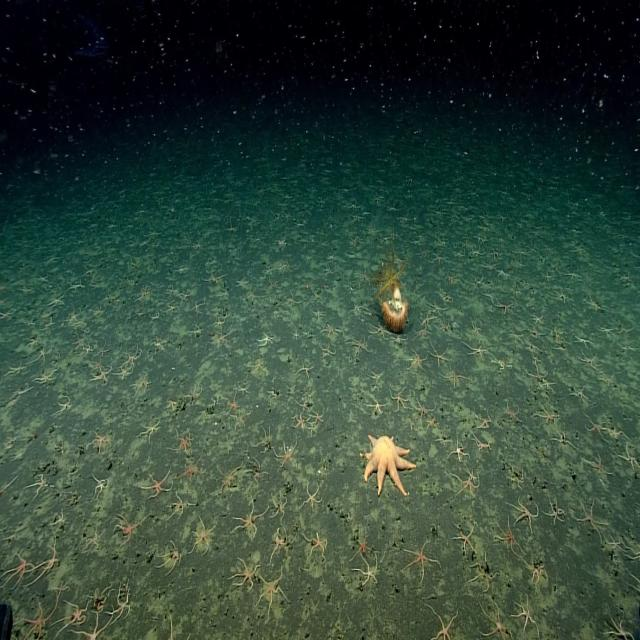brittle-stars: (12, 590, 59, 640), (402, 536, 442, 585), (419, 599, 466, 640), (476, 598, 515, 640), (568, 492, 606, 535), (598, 602, 640, 640), (67, 607, 115, 640), (467, 550, 498, 594), (188, 512, 218, 556), (258, 569, 286, 615), (56, 599, 92, 633), (236, 500, 266, 540), (232, 547, 258, 593), (512, 594, 540, 636), (508, 497, 540, 533), (110, 510, 142, 545), (145, 464, 175, 501), (496, 523, 523, 561), (178, 454, 208, 486), (4, 554, 33, 586), (37, 539, 59, 581), (450, 472, 480, 502), (159, 540, 184, 575), (214, 464, 239, 498), (354, 557, 382, 587), (110, 587, 133, 623), (453, 525, 480, 555), (89, 427, 117, 455), (268, 522, 288, 560), (546, 493, 565, 532), (618, 439, 640, 472), (306, 534, 328, 565), (26, 469, 51, 496), (301, 482, 322, 514), (138, 416, 162, 444), (169, 492, 192, 521), (277, 444, 300, 472), (526, 558, 546, 590), (246, 460, 270, 486), (414, 395, 433, 427), (390, 385, 412, 411), (442, 368, 467, 390), (171, 434, 197, 455), (33, 366, 60, 386), (81, 528, 103, 552), (583, 455, 608, 476), (260, 428, 278, 457), (352, 533, 372, 559), (535, 408, 561, 428), (624, 535, 640, 567), (112, 361, 136, 382), (368, 391, 388, 416), (270, 494, 288, 521), (556, 427, 577, 450), (499, 402, 522, 423), (89, 365, 112, 386), (89, 588, 107, 614), (350, 335, 372, 356), (132, 374, 152, 396), (231, 409, 249, 433), (602, 421, 623, 441), (122, 346, 143, 366), (32, 345, 54, 364), (475, 409, 493, 432), (449, 439, 467, 462), (524, 368, 547, 386), (505, 468, 525, 488), (492, 355, 512, 375), (369, 320, 389, 340), (321, 320, 341, 340), (585, 418, 606, 437), (91, 476, 108, 499), (430, 346, 450, 365), (409, 348, 426, 370), (468, 342, 490, 359), (7, 362, 30, 378), (570, 385, 588, 405), (56, 396, 74, 416), (224, 396, 240, 418), (15, 378, 32, 398), (596, 372, 618, 387), (297, 362, 314, 381), (251, 356, 267, 376), (472, 436, 493, 451), (214, 331, 229, 352), (212, 312, 227, 333), (258, 331, 276, 348), (412, 325, 431, 341), (580, 354, 599, 370), (94, 342, 111, 359), (52, 510, 66, 530), (306, 418, 319, 439), (435, 430, 452, 446), (236, 380, 252, 397), (425, 416, 440, 434), (390, 332, 409, 346), (292, 412, 306, 431), (321, 339, 335, 358), (185, 387, 201, 403), (537, 379, 558, 391), (469, 322, 483, 340), (26, 330, 39, 349), (510, 326, 522, 346), (81, 342, 96, 358), (311, 306, 326, 321), (164, 396, 178, 412), (152, 336, 168, 350), (608, 536, 622, 552), (417, 312, 434, 325), (426, 302, 444, 314), (311, 409, 325, 424), (299, 394, 310, 413), (188, 325, 204, 338), (437, 321, 453, 333), (73, 334, 86, 348), (528, 330, 543, 342), (290, 331, 300, 342)
